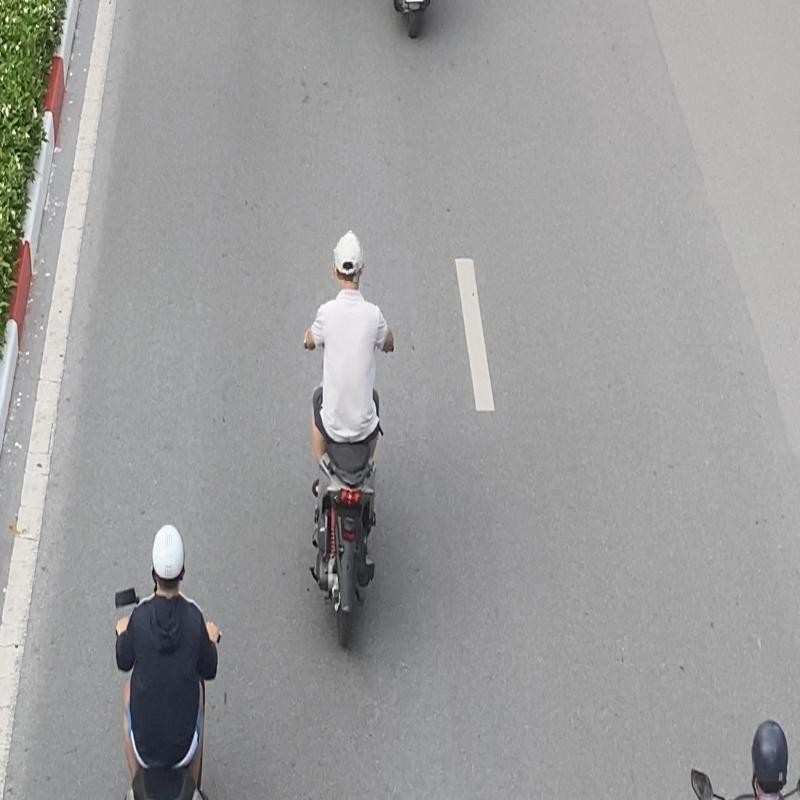motorcyclist: (298, 225, 402, 654)
nohelmet: (330, 230, 364, 281)
